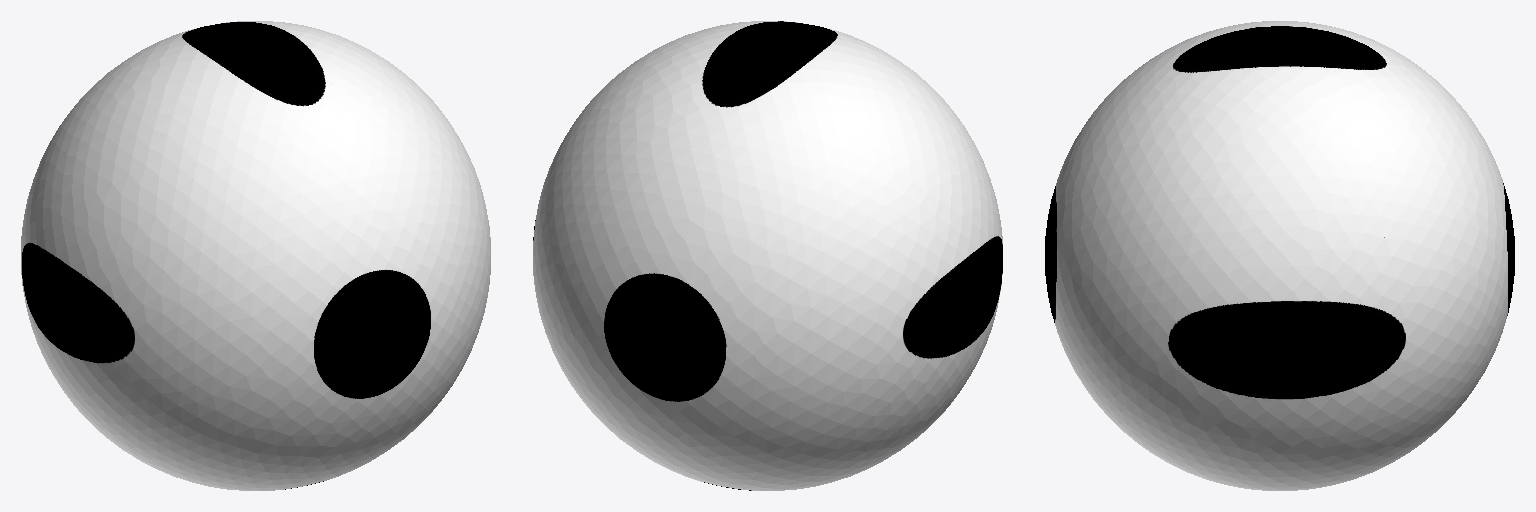
The picture shows the model from 3 angles: view 1: azimuth 30°, elevation 25°; view 2: azimuth 150°, elevation 25°; view 3: azimuth 270°, elevation 25°; orthographic projection.
Visible parts, largest first — view 1: lEye; view 2: lEye; view 3: lEye.
Boxes of the visible parts, x1=… form: lEye: x1=21, y1=21, x2=490, y2=490; lEye: x1=533, y1=21, x2=1002, y2=490; lEye: x1=1045, y1=21, x2=1514, y2=490.
Size of the model in its own units: 2 by 2 by 2.
Materials: 1 (1 with a texture image).